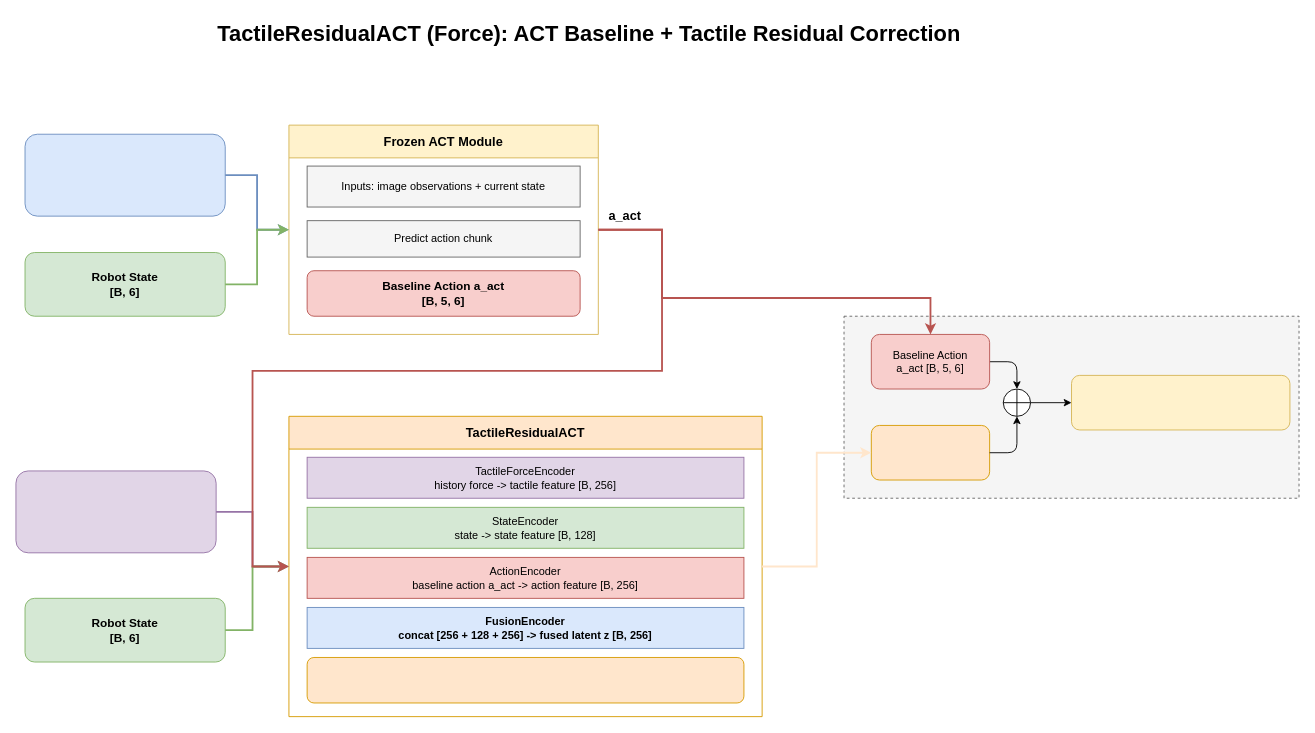
The diagram is 1315 pixels wide and 733 high, and some of its shapes have lost their labels. Here are the shapes that lost their labels. From the top down, the box of each, then its label:
(24, 133, 225, 216): RGB Images top / wrist / side [B, C, H, W]
(1071, 374, 1290, 430): Final Action a = a_act + Δa [B, 5, 6]
(870, 425, 990, 480): Delta Action Δa [B, 5, 6]
(15, 470, 216, 553): Tactile Force History left + right [B, 16, 12]
(306, 657, 744, 703): ResidualDecoder -> Delta Action Δa [B, 5, 6]
